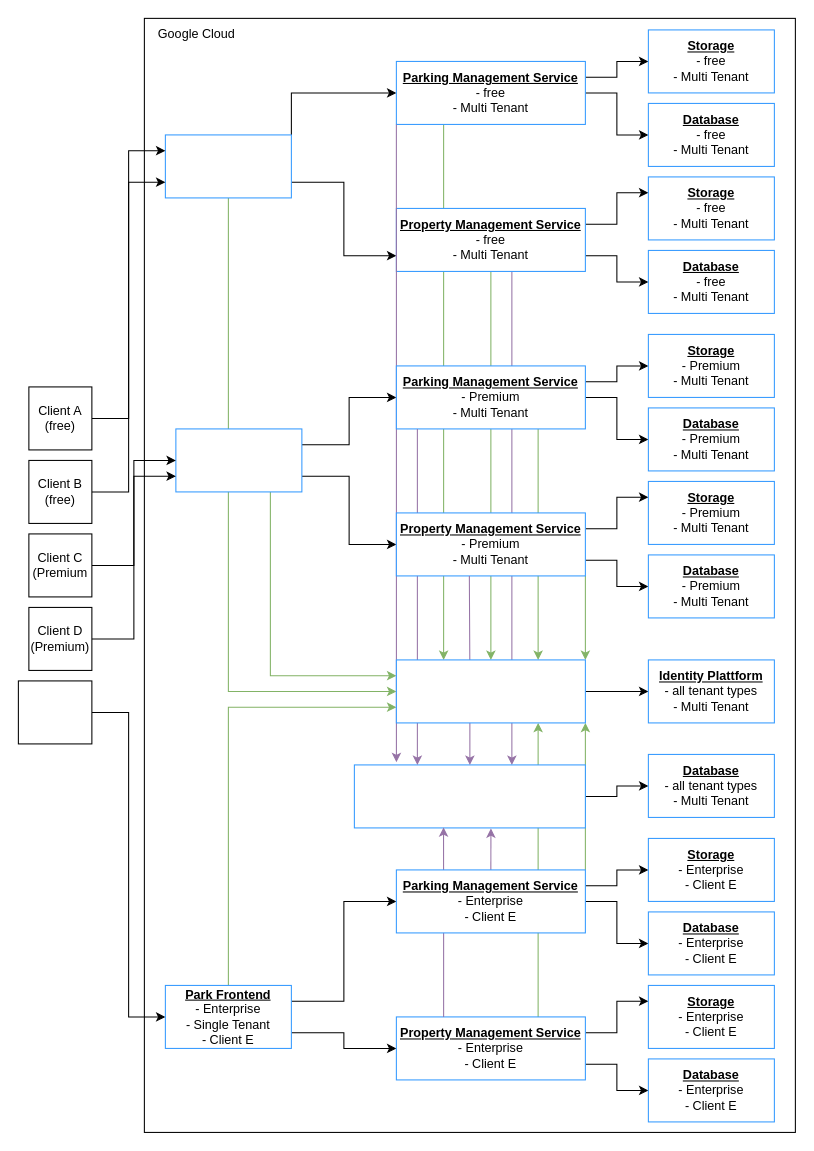
The diagram is 814 pixels wide and 1151 high, and some of its shapes have lost their labels. The centre of each missing label's shape, as x and y in pixels:
Authentication Service - all tenant types - Multi Tenant: (490,691)
Client E (Enterprise): (54,712)
Infrastructure Administration Service - all tenant types - Multi Tenant: (469,796)
Park Frontend - free - Multi Tenant: (227,166)
Park Frontend - Premium - Single Tenant - Client D: (238,460)
